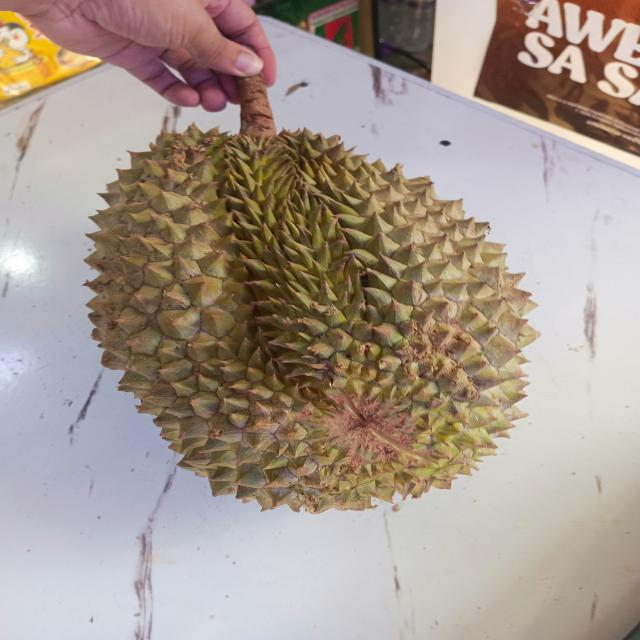mature: (80, 120, 534, 511)
